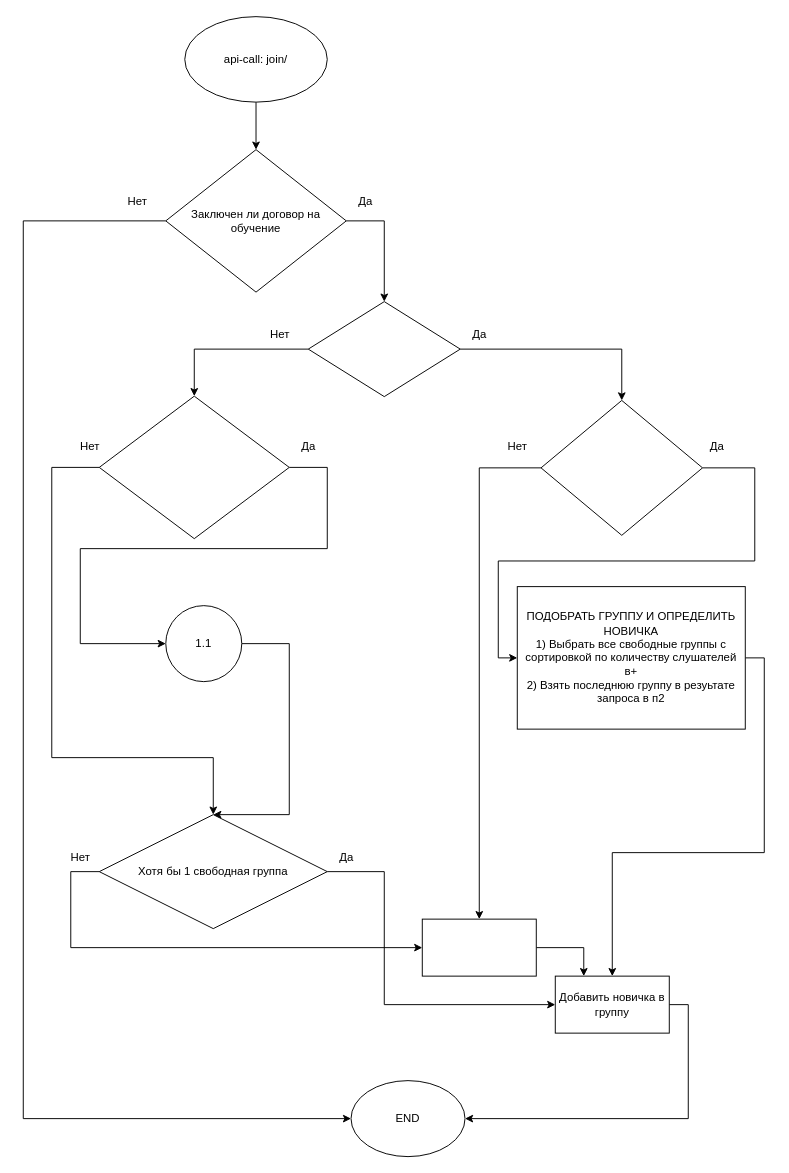
The diagram is 789 pixels wide and 1173 high, and some of its shapes have lost their labels. The shapes that lost their labels are listed below. From the top down, each one's centre as x and y in pixels, then its label:
At point (383, 349): "Курс стартовал".
At point (193, 467): "Хотя бы 2 свободные группы".
At point (621, 467): "Хоть 1 свободная группа".
At point (478, 947): "Инициализировать группу".
